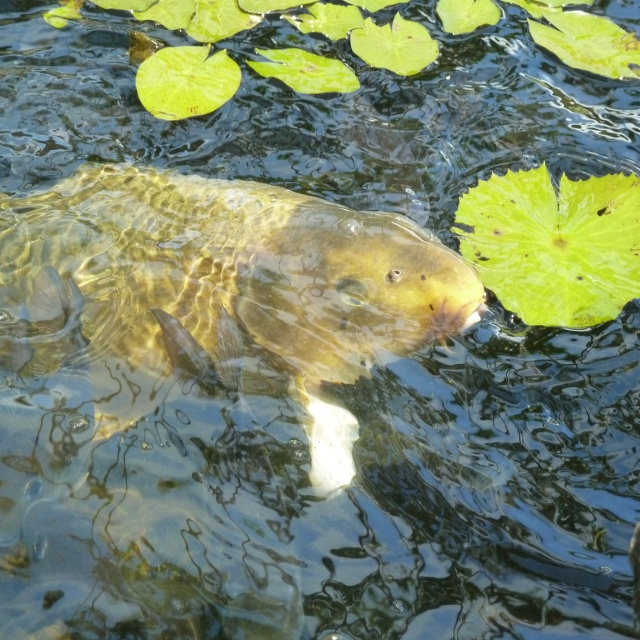Fish: (0, 162, 487, 442)
